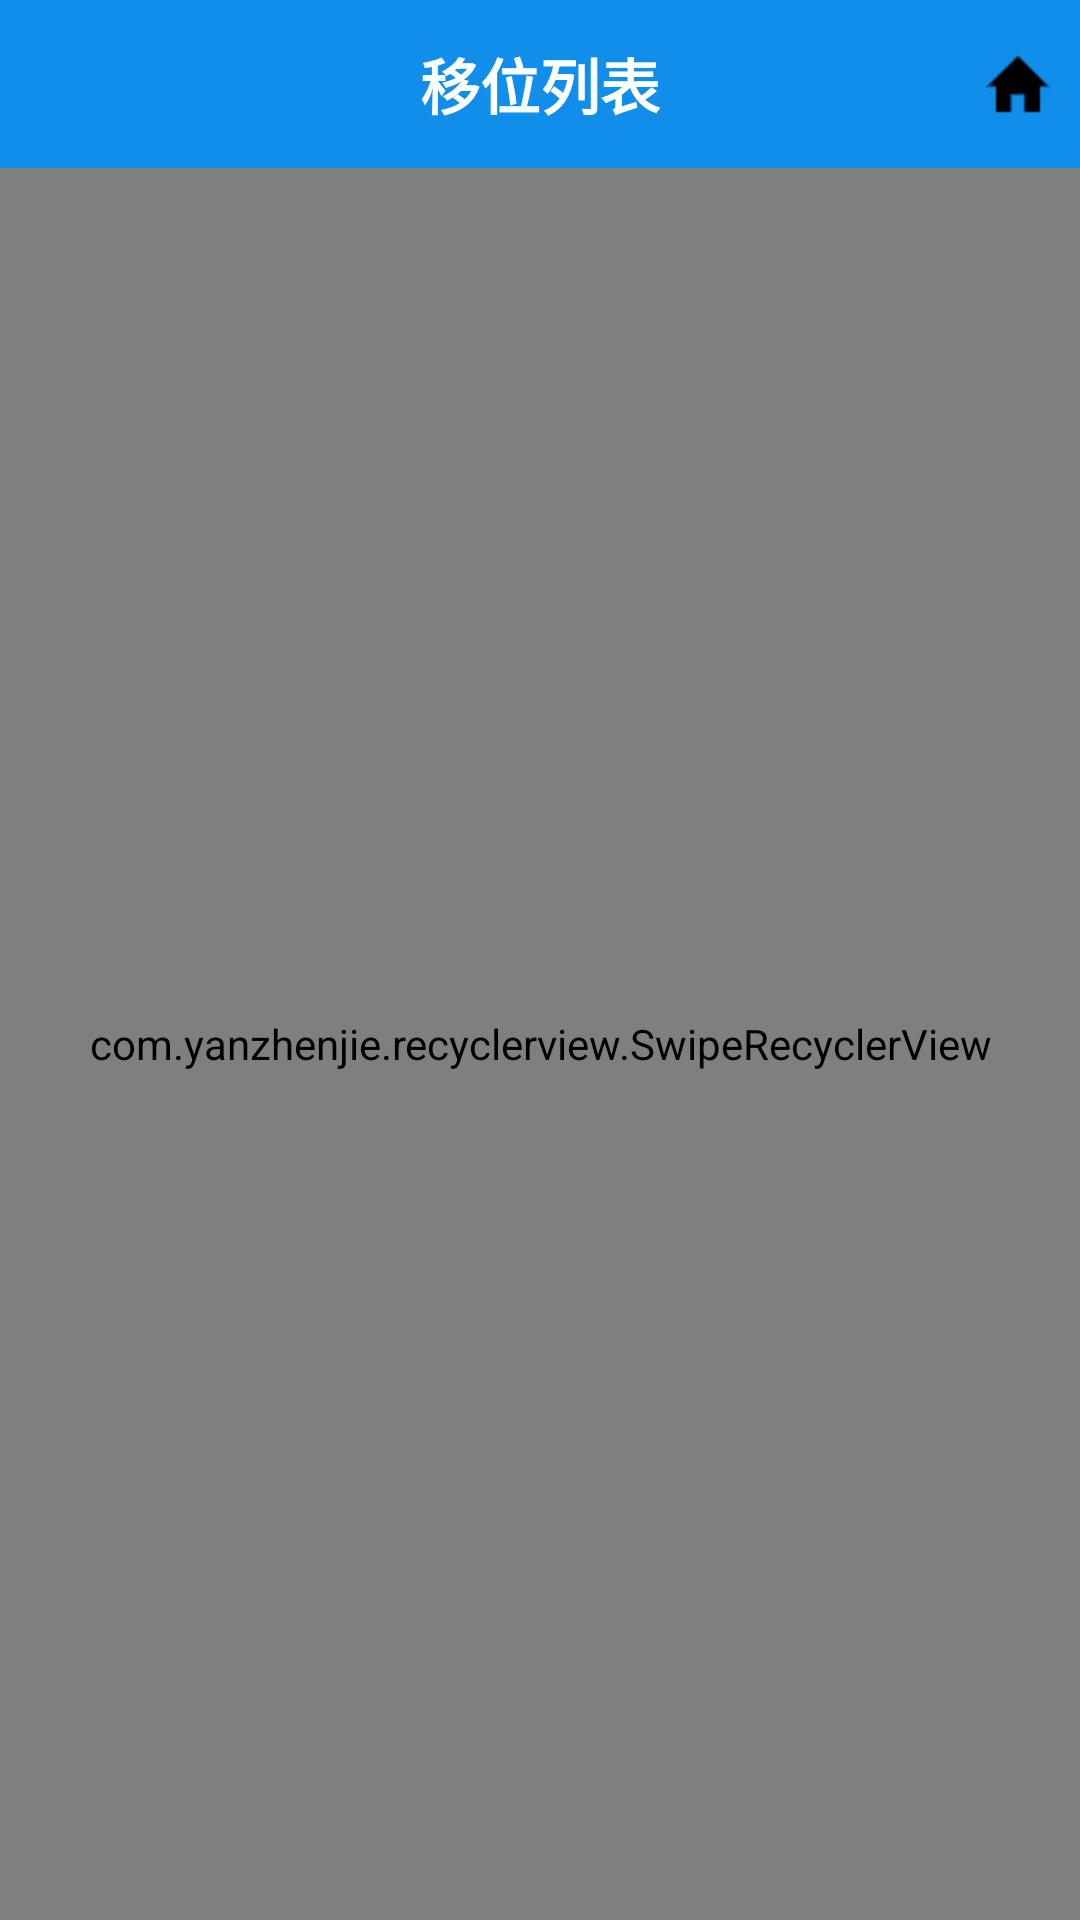

Screen size 1080 x 1920. Icon name, then its box in pixels as (x1, y1, x2, y2):
home: (986, 55, 1050, 113)
